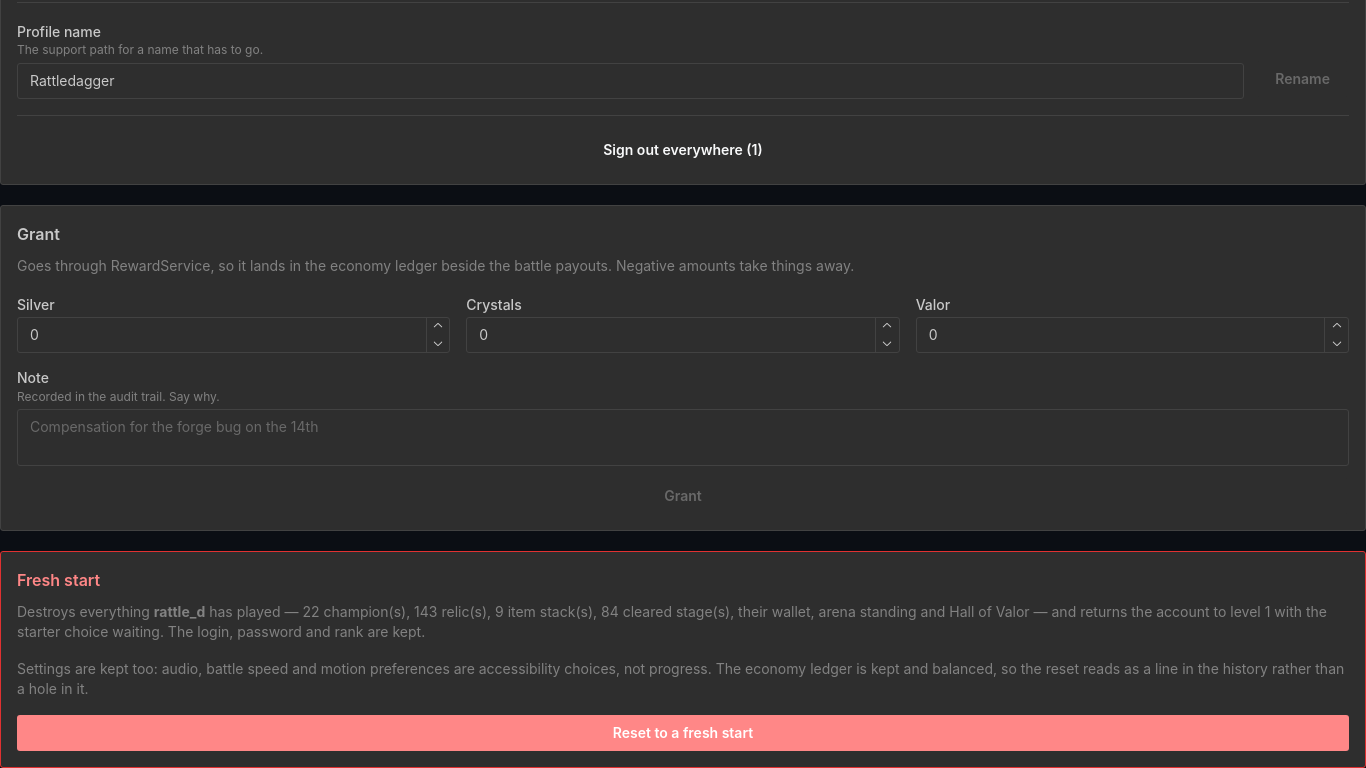
Test: the fresh-start reset › will not reset an account on a single click
(page scrolled)
Click the button "Reset to a fresh start" at (683,733), box [17,715,1349,751]
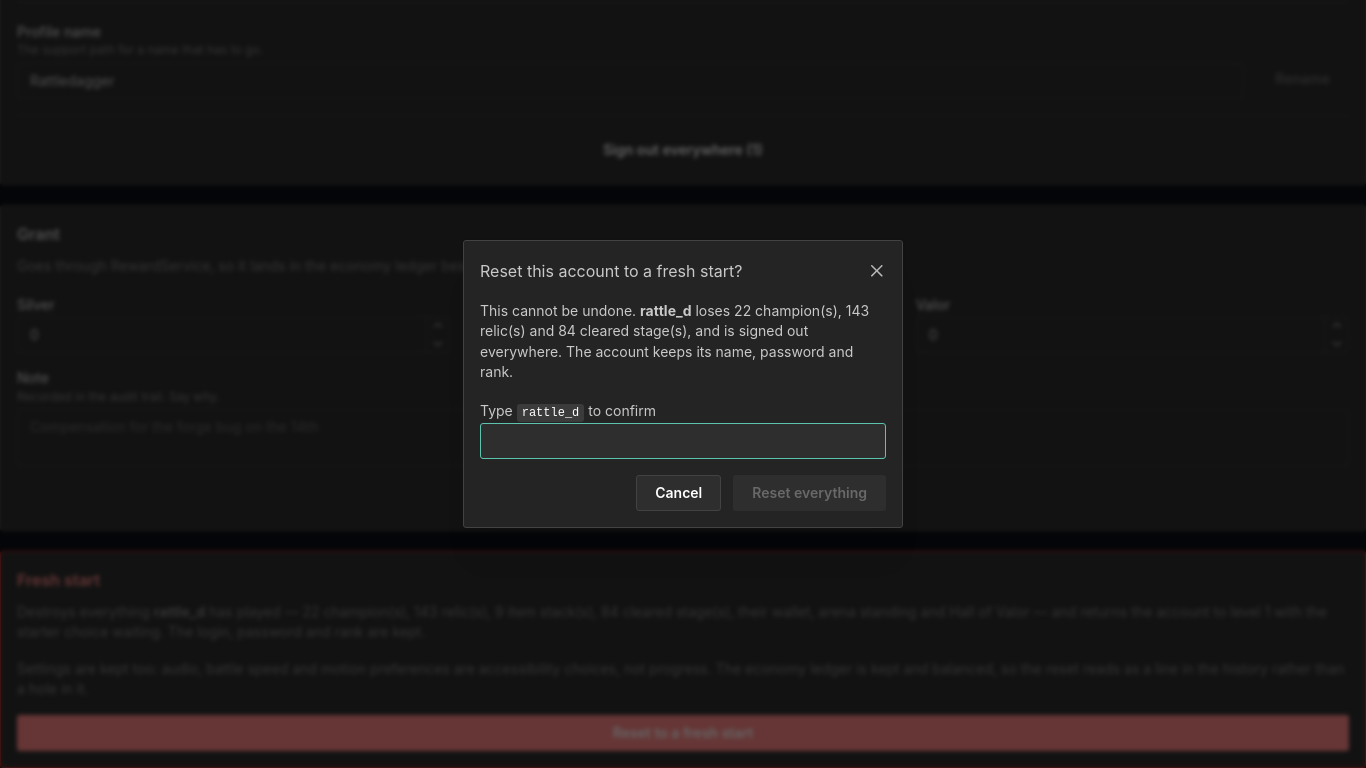
Check: the text "cannot be undone" is shown, box [480,302,640,319]
